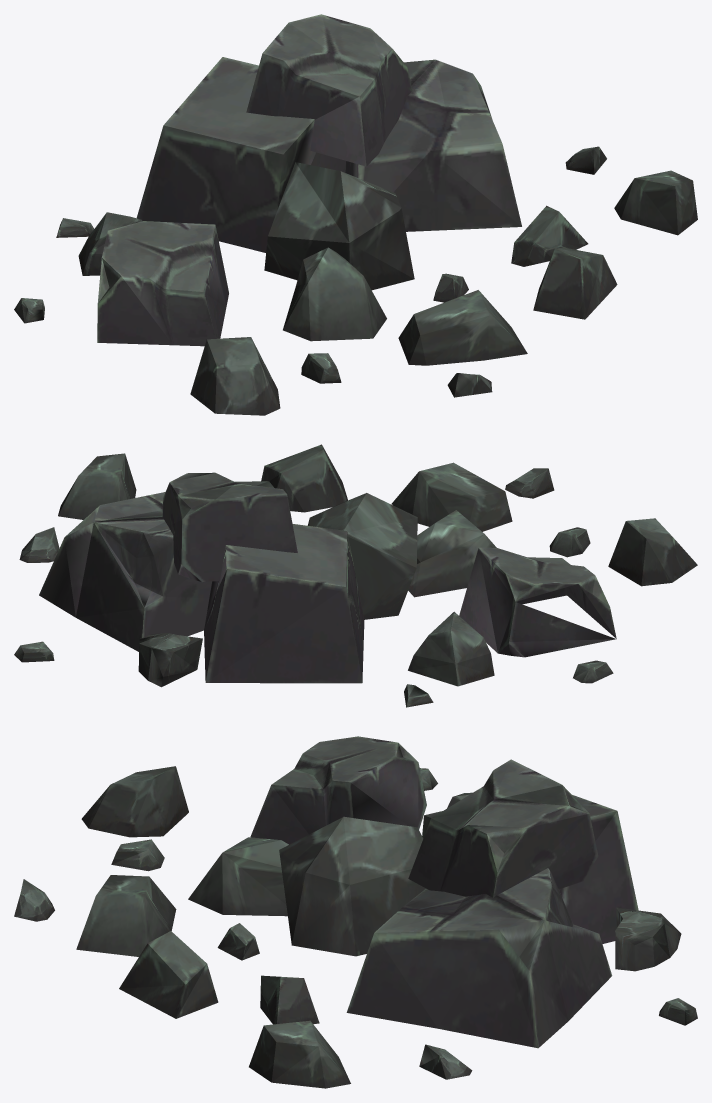
Rendered from changjing_pvp_shidui_a.FBX.
3 views of the same model, one above another, from view 1: azimuth 30°, elevation 25°; view 2: azimuth 150°, elevation 25°; view 3: azimuth 270°, elevation 25° (orthographic). The views are drawn at different scales.
Visible parts, largest first — view 1: changjing_pvp_shidui_a; view 2: changjing_pvp_shidui_a; view 3: changjing_pvp_shidui_a.
Boxes of the visible parts, x1=… form: changjing_pvp_shidui_a: x1=14, y1=14, x2=697, y2=415; changjing_pvp_shidui_a: x1=14, y1=444, x2=697, y2=707; changjing_pvp_shidui_a: x1=14, y1=736, x2=697, y2=1088.
Bounding box in the file's own units: 231 × 214 × 56.31.
